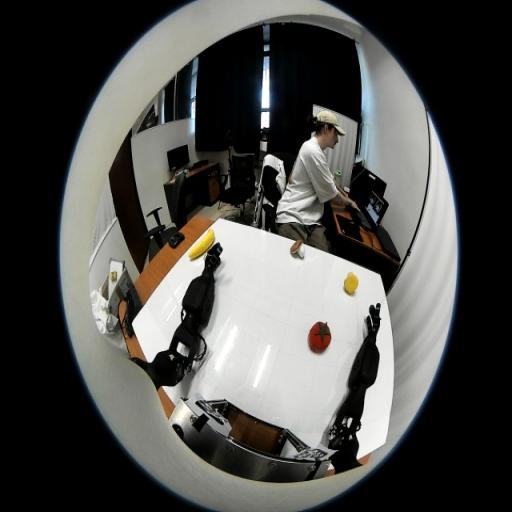Banana: (188, 228, 215, 259)
Duck: (344, 272, 358, 293)
LeftHand: (205, 258, 215, 272)
Mushroom: (290, 240, 305, 258)
RightHand: (367, 322, 380, 335)
Tomato: (309, 321, 331, 353)
